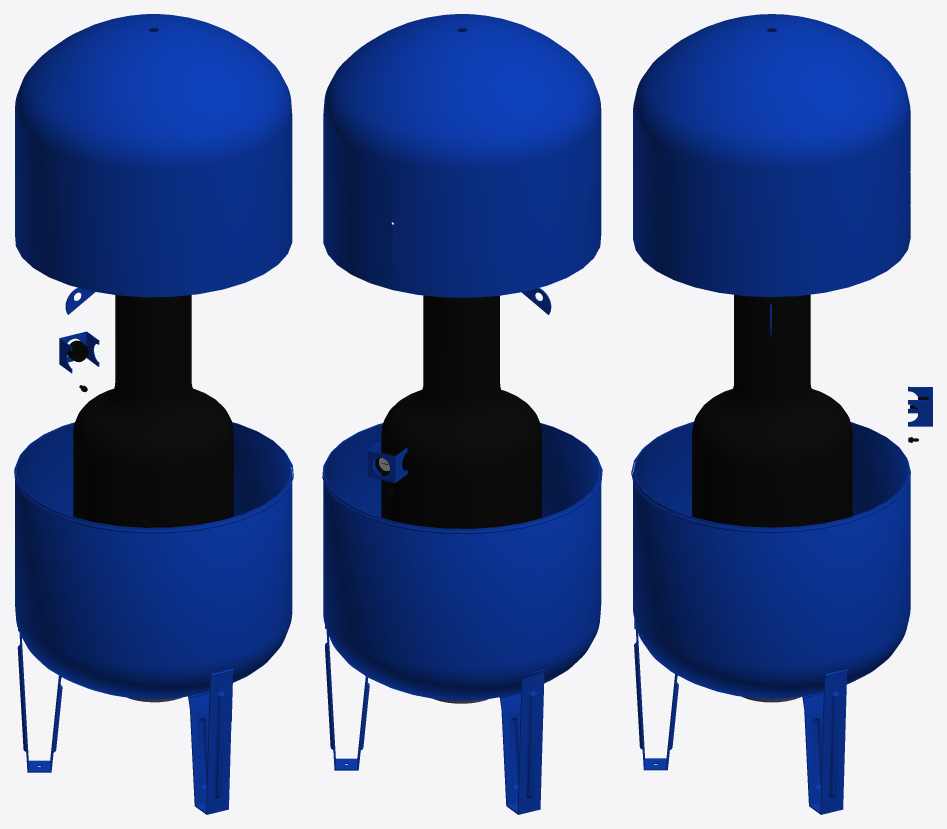
Rendered from 500-hareketli-manometreli-dik-ayakli.obj.
3 views of the same model, side by side, from view 1: azimuth 30°, elevation 25°; view 2: azimuth 150°, elevation 25°; view 3: azimuth 270°, elevation 25° (orthographic).
Visible parts, largest first — view 1: 500-hareketli-manometreli-dik-ayaklı.005_Cylinder.001, 500-hareketli-manometreli-dik-ayaklı.004_Cylinder, 500-hareketli-manometreli-dik-ayaklı.006_Cylinder.006, 500-hareketli-manometreli-dik-ayaklı.024_Plane, 500-hareketli-manometreli-dik-ayaklı_Plane.005, 500-hareketli-manometreli-dik-ayaklı.007_Cylinder.007, 500-hareketli-manometreli-dik-ayaklı.001_Plane.001; view 2: 500-hareketli-manometreli-dik-ayaklı.005_Cylinder.001, 500-hareketli-manometreli-dik-ayaklı.004_Cylinder, 500-hareketli-manometreli-dik-ayaklı.006_Cylinder.006, 500-hareketli-manometreli-dik-ayaklı_Plane.005, 500-hareketli-manometreli-dik-ayaklı.025_Plane.004, 500-hareketli-manometreli-dik-ayaklı.007_Cylinder.007, 500-hareketli-manometreli-dik-ayaklı.001_Plane.001; view 3: 500-hareketli-manometreli-dik-ayaklı.005_Cylinder.001, 500-hareketli-manometreli-dik-ayaklı.004_Cylinder, 500-hareketli-manometreli-dik-ayaklı.006_Cylinder.006, 500-hareketli-manometreli-dik-ayaklı.025_Plane.004, 500-hareketli-manometreli-dik-ayaklı.024_Plane, 500-hareketli-manometreli-dik-ayaklı.007_Cylinder.007, 500-hareketli-manometreli-dik-ayaklı.001_Plane.001.
Part boxes in pixels (box(x1,y1,x2,y2)): 500-hareketli-manometreli-dik-ayaklı.005_Cylinder.001: box(15, 14, 292, 297); 500-hareketli-manometreli-dik-ayaklı.004_Cylinder: box(15, 422, 292, 699); 500-hareketli-manometreli-dik-ayaklı.006_Cylinder.006: box(73, 295, 233, 527); 500-hareketli-manometreli-dik-ayaklı.024_Plane: box(188, 671, 232, 814); 500-hareketli-manometreli-dik-ayaklı_Plane.005: box(17, 633, 62, 772); 500-hareketli-manometreli-dik-ayaklı.007_Cylinder.007: box(14, 453, 293, 533); 500-hareketli-manometreli-dik-ayaklı.001_Plane.001: box(59, 331, 98, 372); 500-hareketli-manometreli-dik-ayaklı.005_Cylinder.001: box(323, 14, 601, 297); 500-hareketli-manometreli-dik-ayaklı.004_Cylinder: box(323, 423, 601, 700); 500-hareketli-manometreli-dik-ayaklı.006_Cylinder.006: box(381, 295, 541, 528); 500-hareketli-manometreli-dik-ayaklı_Plane.005: box(499, 672, 544, 814); 500-hareketli-manometreli-dik-ayaklı.025_Plane.004: box(325, 630, 369, 770); 500-hareketli-manometreli-dik-ayaklı.007_Cylinder.007: box(322, 447, 602, 534); 500-hareketli-manometreli-dik-ayaklı.001_Plane.001: box(367, 441, 406, 483); 500-hareketli-manometreli-dik-ayaklı.005_Cylinder.001: box(633, 14, 910, 297); 500-hareketli-manometreli-dik-ayaklı.004_Cylinder: box(633, 421, 910, 698); 500-hareketli-manometreli-dik-ayaklı.006_Cylinder.006: box(692, 294, 852, 527); 500-hareketli-manometreli-dik-ayaklı.025_Plane.004: box(802, 671, 846, 814); 500-hareketli-manometreli-dik-ayaklı.024_Plane: box(634, 629, 678, 770); 500-hareketli-manometreli-dik-ayaklı.007_Cylinder.007: box(631, 448, 910, 533); 500-hareketli-manometreli-dik-ayaklı.001_Plane.001: box(908, 387, 932, 426).
Size of the model in its own units: 14.36 by 41.59 by 15.47.
